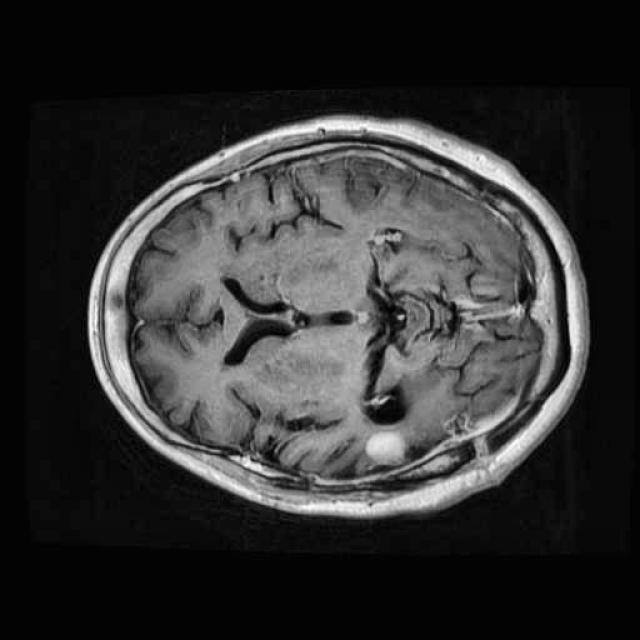Non-Tumor: (355, 419, 413, 480)
